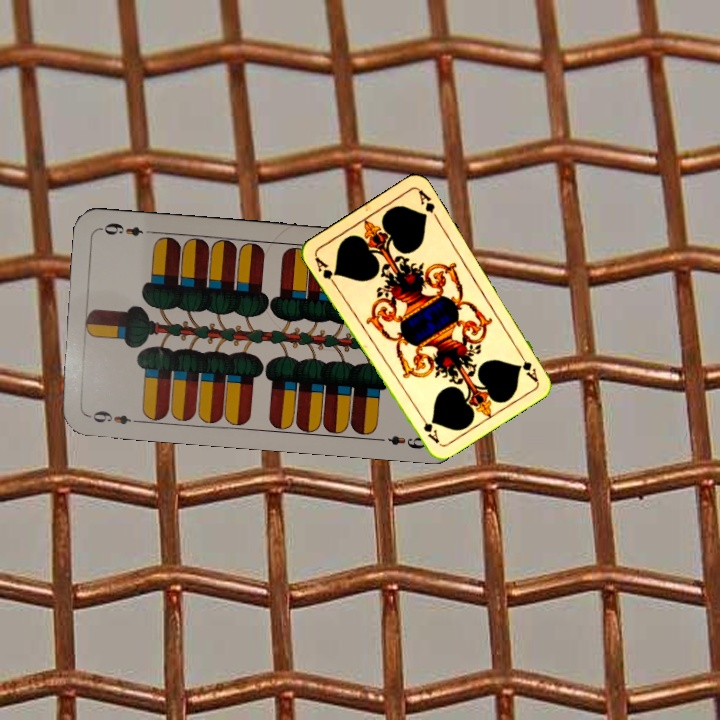E9: (83, 407, 142, 428)
GA: (310, 252, 340, 288), (514, 347, 541, 384)
